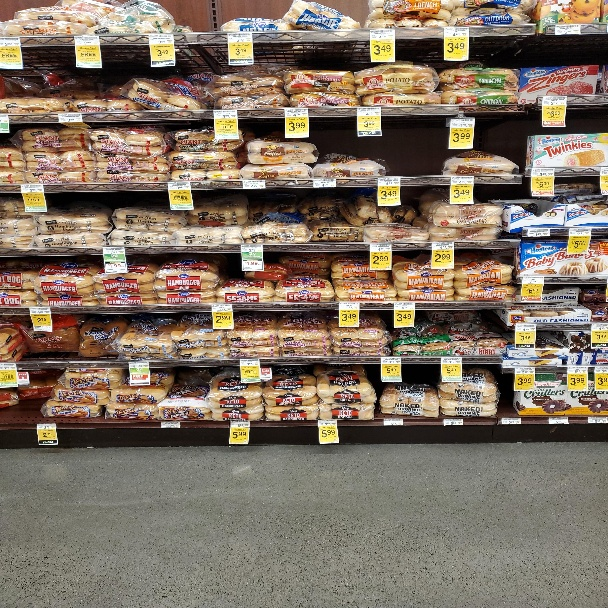All PRICE TAGS: (443, 26, 469, 37), (74, 35, 100, 45), (369, 29, 394, 39), (542, 96, 567, 105), (555, 25, 580, 34), (149, 34, 174, 43), (356, 107, 381, 116), (450, 118, 475, 127), (377, 177, 401, 186), (58, 113, 82, 122), (284, 108, 308, 117), (213, 110, 238, 118), (451, 176, 473, 185), (313, 178, 335, 187), (569, 227, 591, 236), (20, 185, 44, 193), (523, 275, 544, 284), (167, 182, 190, 190), (227, 34, 253, 41), (243, 180, 265, 188), (29, 307, 51, 315), (532, 168, 554, 176), (394, 302, 415, 310), (432, 241, 453, 249), (370, 243, 391, 251), (241, 244, 262, 252), (515, 324, 536, 332), (129, 361, 149, 369), (0, 38, 20, 46), (588, 416, 608, 424), (568, 366, 588, 374), (515, 367, 535, 375), (528, 229, 550, 236), (381, 356, 402, 363), (212, 304, 233, 311), (104, 247, 125, 254), (340, 302, 358, 310), (591, 322, 607, 331), (443, 418, 463, 425), (383, 418, 403, 425), (317, 419, 337, 426), (230, 420, 250, 427), (160, 421, 180, 428), (442, 356, 462, 363), (239, 358, 259, 365), (37, 423, 57, 430), (549, 417, 568, 424), (1, 363, 17, 371), (502, 418, 521, 424), (594, 366, 607, 373)
